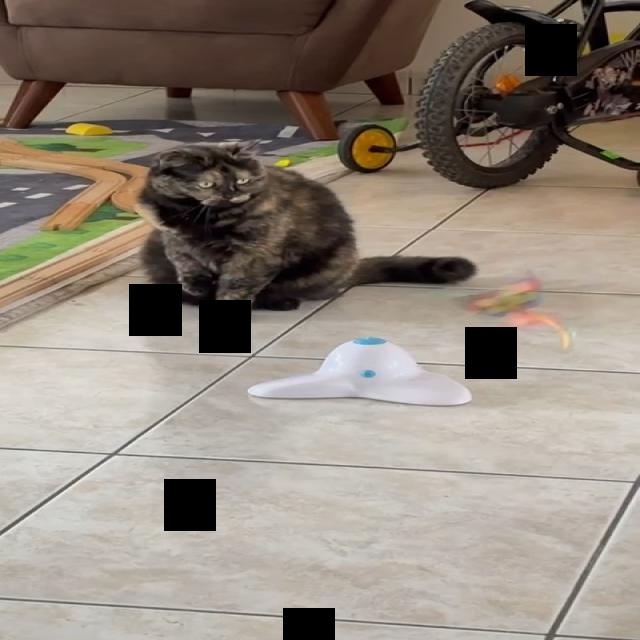authorized: (134, 137, 478, 321)
